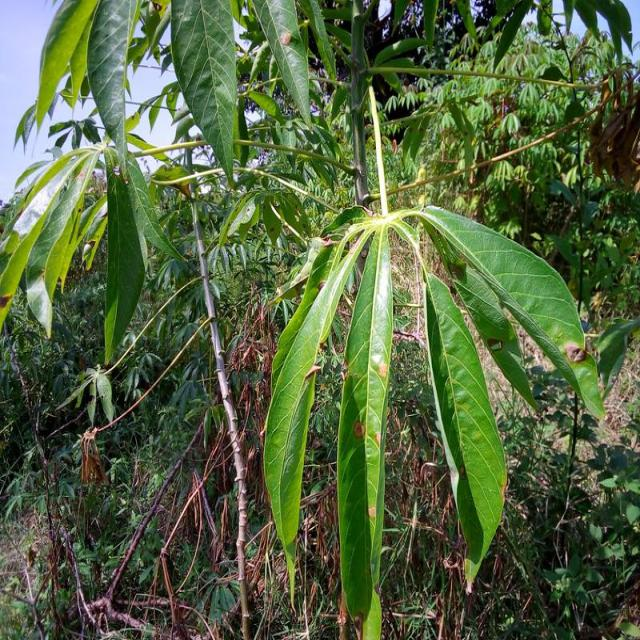cassava leaf: (263, 222, 374, 607), (419, 203, 606, 419), (424, 270, 509, 588), (337, 221, 395, 638), (170, 0, 240, 189)
